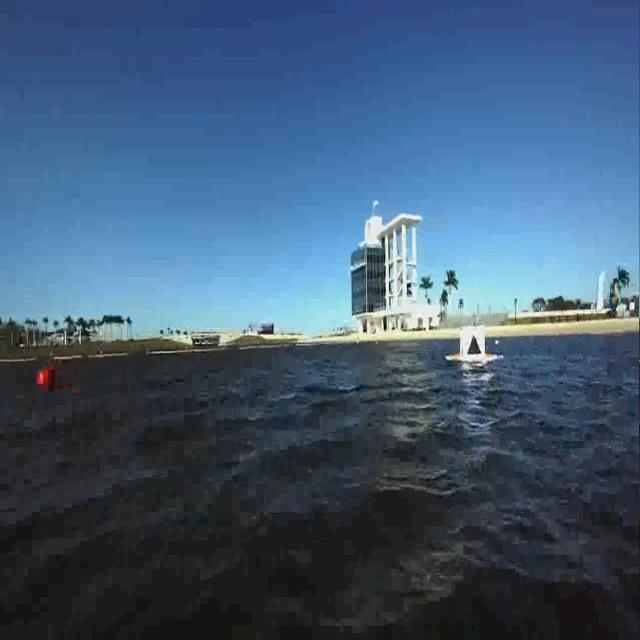red-buoy: (34, 362, 64, 399)
